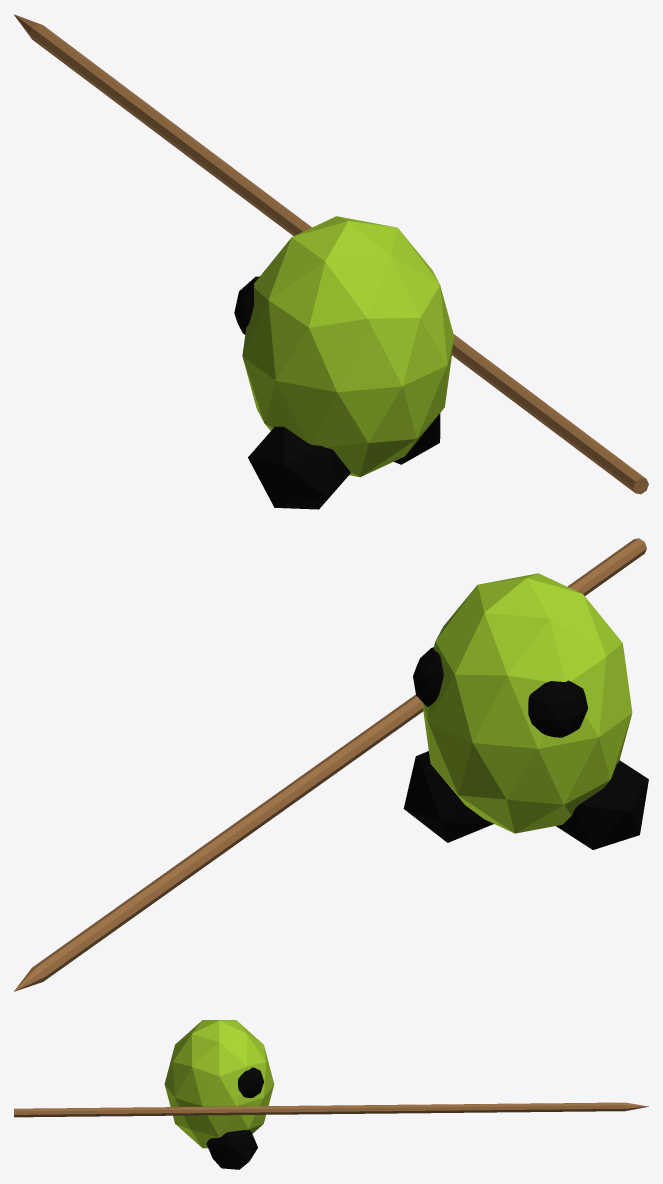
Rendered from walk.f0022.glb.
3 views of the same model, one above another, from view 1: azimuth 30°, elevation 25°; view 2: azimuth 150°, elevation 25°; view 3: azimuth 270°, elevation 25° (orthographic). The views are drawn at different scales.
Parts seen in each view (by area): view 1: Body.001; view 2: Body.001; view 3: Body.001.
Part boxes in pixels (x1,y1,x2,y2): Body.001: (14,14,648,509); Body.001: (14,538,648,991); Body.001: (14,1020,648,1169).
Size of the model in its own units: 2.17 by 2.71 by 11.56.
1 material, 1 textured.
